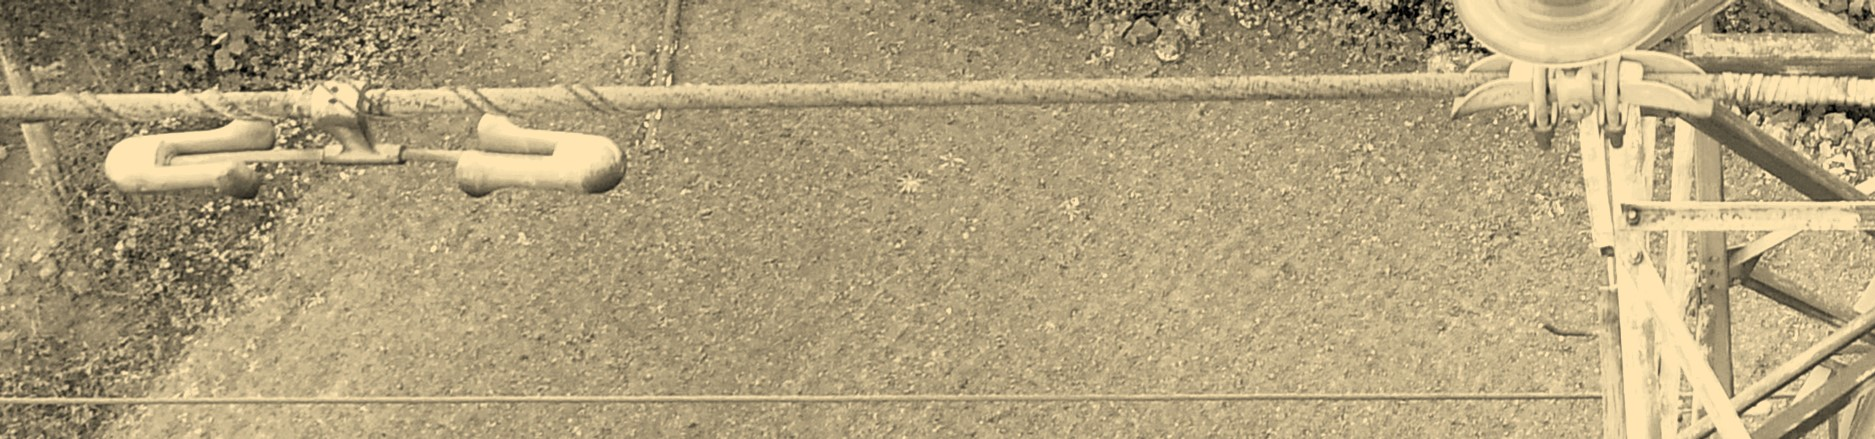Shockproof hammer: (88, 65, 641, 222)
